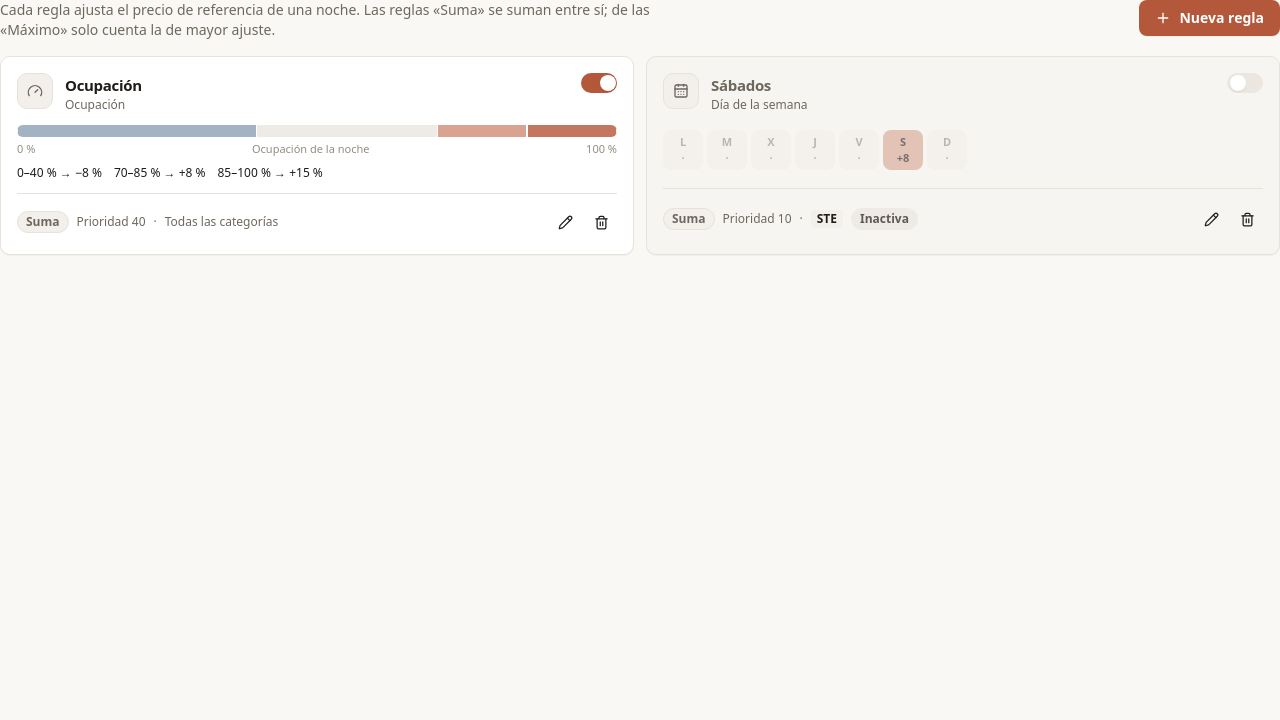
rules › previews what a run would leave with the draft, without saving it
This screenshot has width=1280, height=720.
Click the button named "Editar «Ocupación»". click: point(565, 222)
box: left=549, top=206, right=581, bottom=238
(page scrolled)
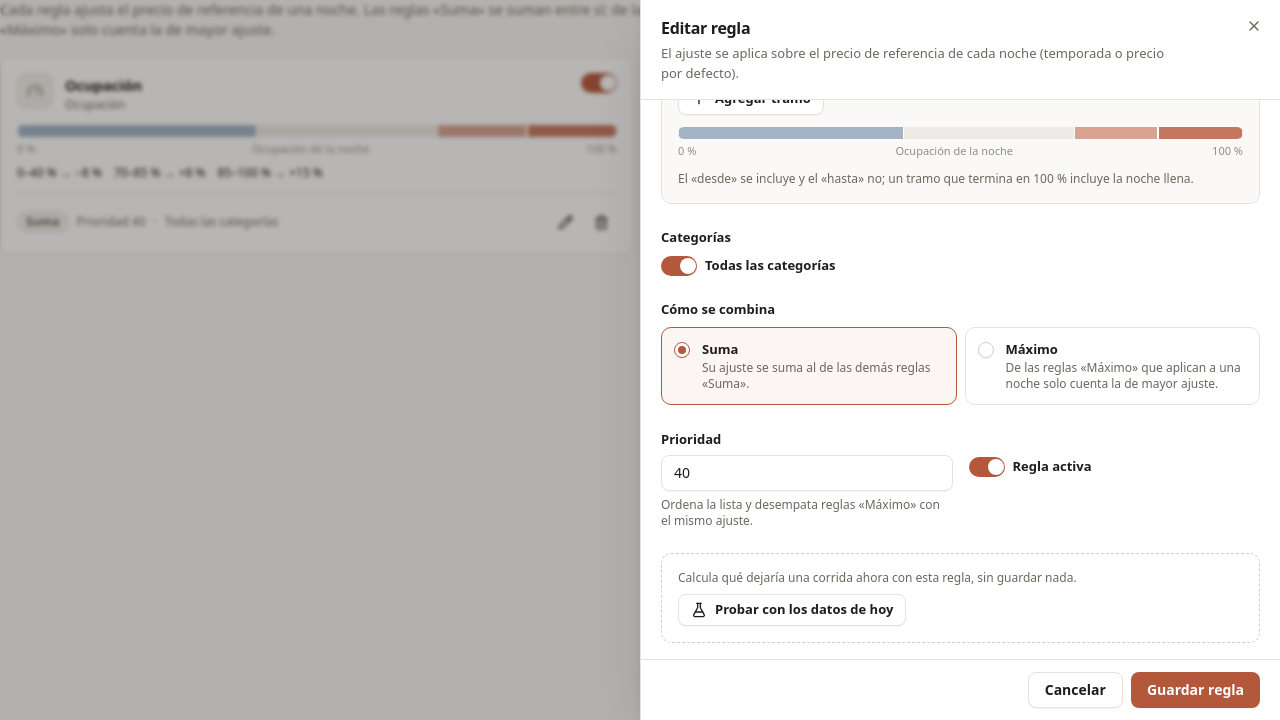
Click the button "Probar con los datos de hoy". click: point(792, 610)
box: left=678, top=594, right=906, bottom=626
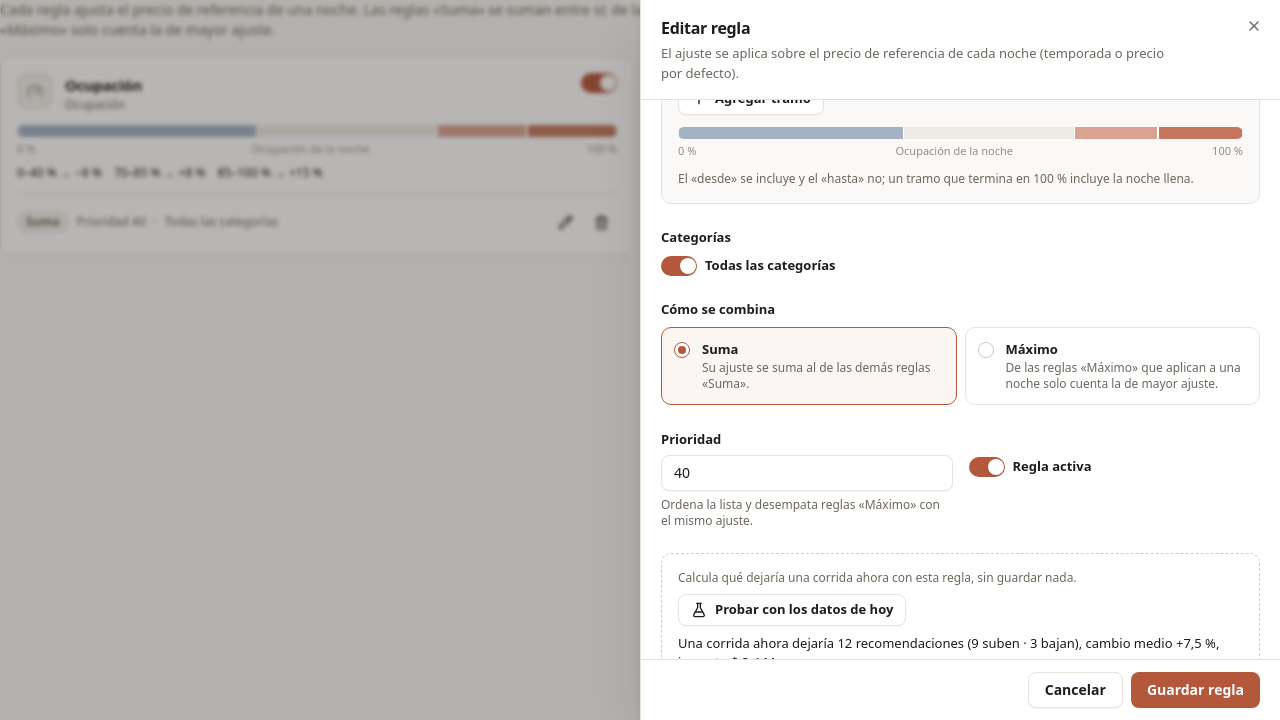
expect the text "Una corrida ahora dejaría 12 recomendaciones (9 suben · 3 bajan)" is shown: met, box left=678, top=634, right=1219, bottom=659
